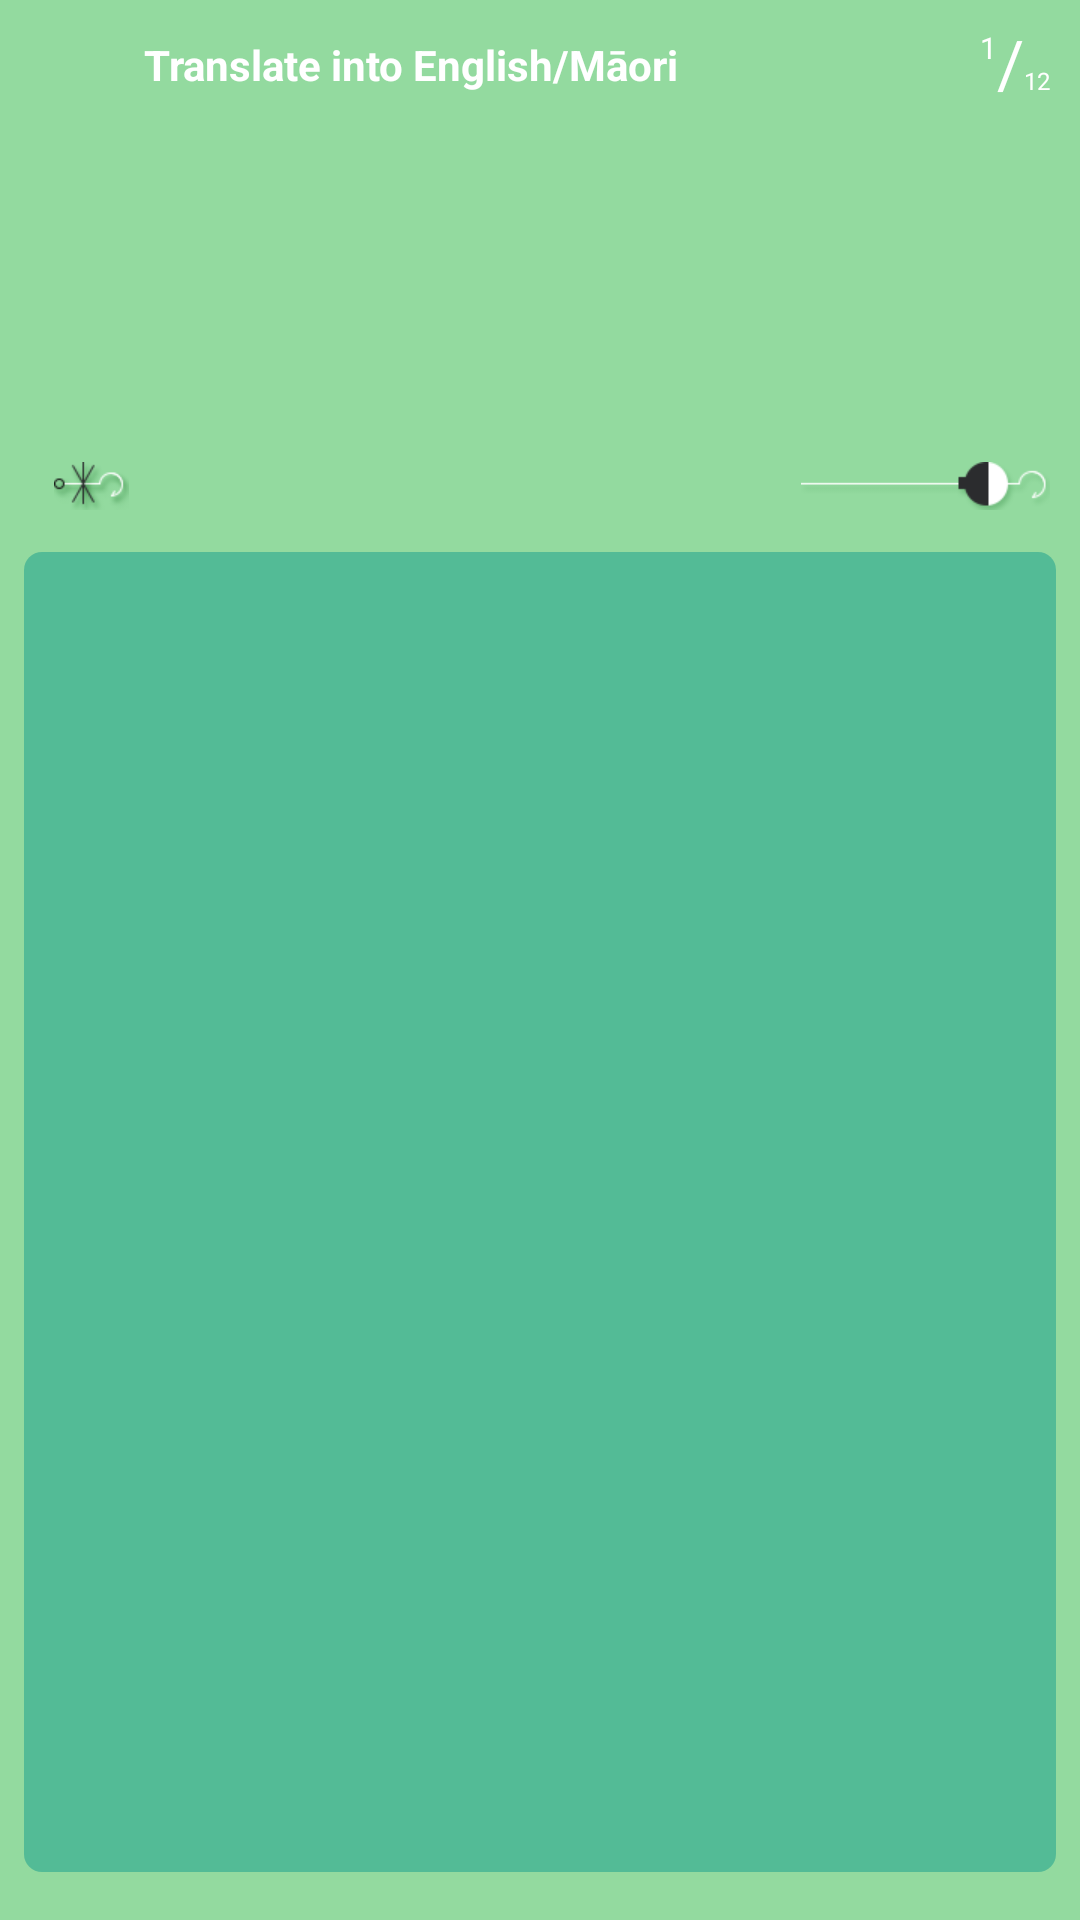

Icons on this 1080w x 1920h Android screen, each with its box as {"left": x1, "top": y1, "right": x2, "bottom": y2}:
playgamepage answerarea fishhook pic: {"left": 54, "top": 462, "right": 127, "bottom": 505}, {"left": 801, "top": 462, "right": 1046, "bottom": 508}
